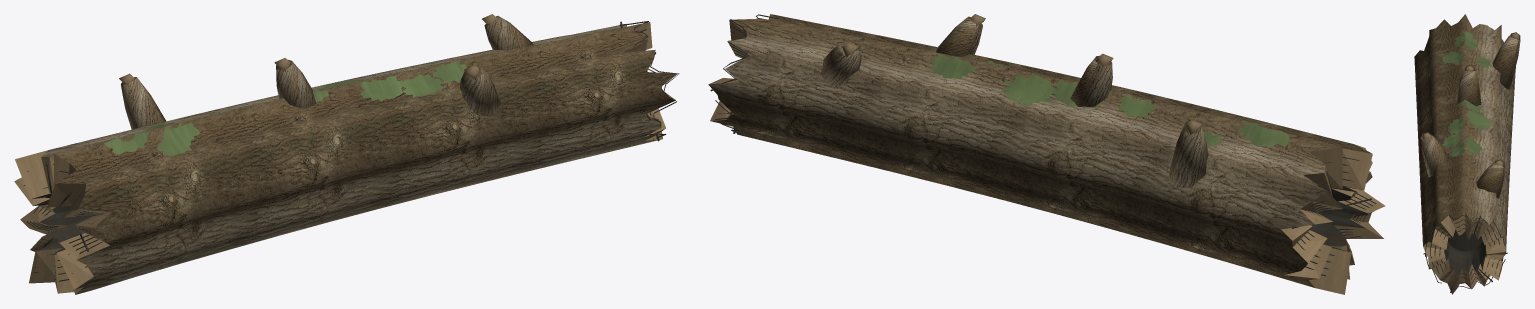
Rendered from fallen_cedar_log.glb.
3 renders of one model, left to right at view 1: azimuth 30°, elevation 25°; view 2: azimuth 150°, elevation 25°; view 3: azimuth 270°, elevation 25°, orthographic. The views are drawn at different scales.
Visible parts, largest first — view 1: cedar_weathered_bark_surface, cedar_old_heartwood_surface, cedar_shade_moss_surface, cedar_cavity_shadow_surface; view 2: cedar_weathered_bark_surface, cedar_old_heartwood_surface, cedar_shade_moss_surface, cedar_cavity_shadow_surface; view 3: cedar_weathered_bark_surface, cedar_old_heartwood_surface, cedar_cavity_shadow_surface, cedar_shade_moss_surface.
Part boxes in pixels (x1,y1,x2,y2): cedar_weathered_bark_surface: [41, 16, 677, 294]; cedar_old_heartwood_surface: [14, 14, 675, 294]; cedar_shade_moss_surface: [104, 60, 466, 155]; cedar_cavity_shadow_surface: [24, 21, 679, 281]; cedar_weathered_bark_surface: [708, 14, 1371, 287]; cedar_old_heartwood_surface: [709, 14, 1385, 294]; cedar_shade_moss_surface: [930, 53, 1289, 148]; cedar_cavity_shadow_surface: [710, 14, 1376, 276]; cedar_weathered_bark_surface: [1414, 14, 1520, 263]; cedar_old_heartwood_surface: [1421, 32, 1520, 294]; cedar_cavity_shadow_surface: [1423, 215, 1507, 292]; cedar_shade_moss_surface: [1442, 31, 1492, 157].
Bounding box in the file's own units: 4.29 × 1.14 × 0.9517.
Materials: 4 (4 with a texture image).
